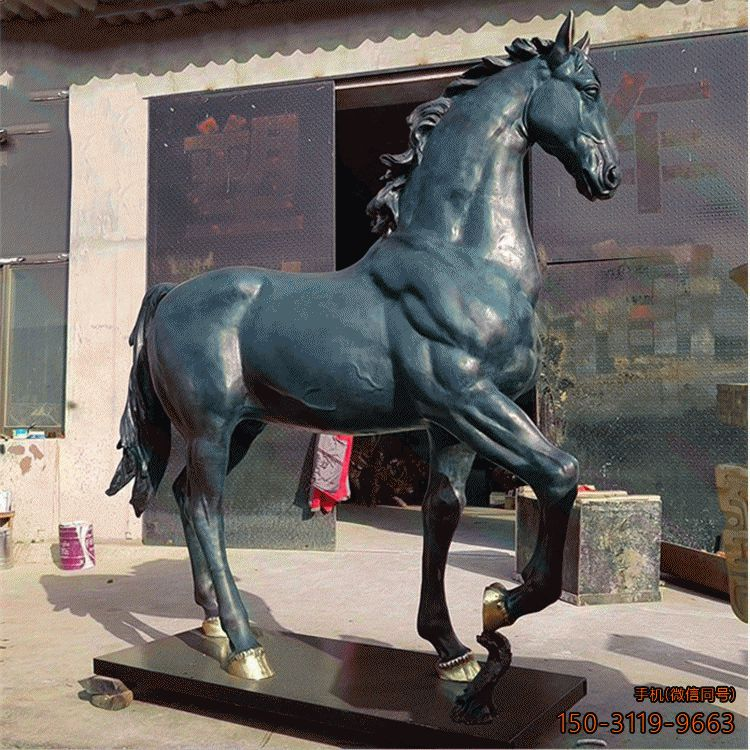background: (101, 5, 638, 724)
